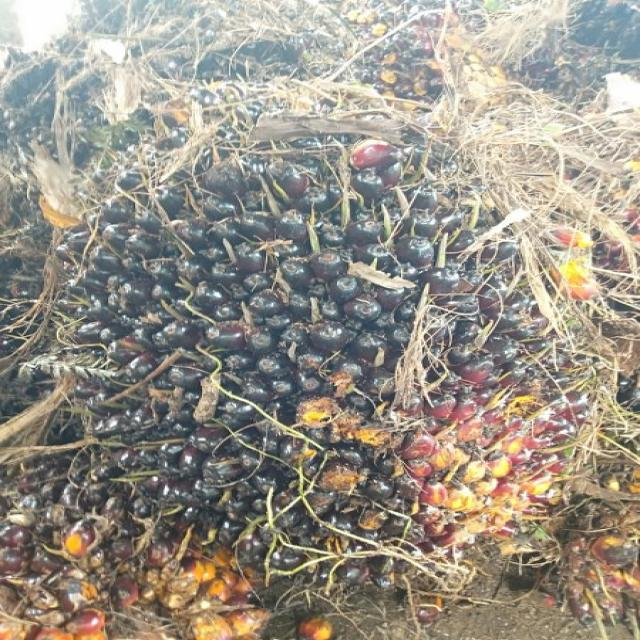fraksi 00: (34, 76, 538, 599)
